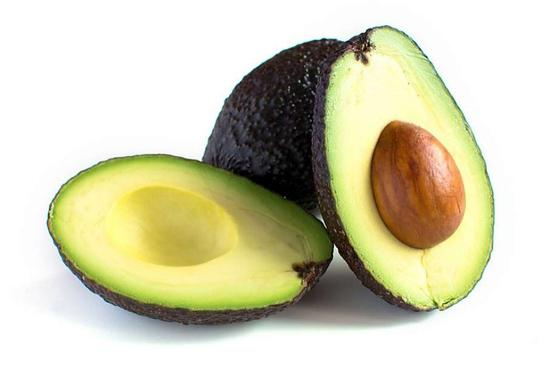avocado: (197, 32, 342, 199)
